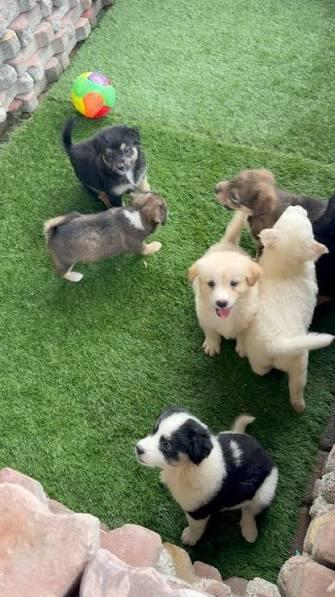non-dog: (70, 70, 119, 120)
puppy-dog: (235, 205, 335, 414), (134, 406, 280, 547), (43, 191, 171, 284), (187, 217, 262, 358), (212, 168, 331, 256), (61, 114, 151, 213), (309, 192, 335, 308)
